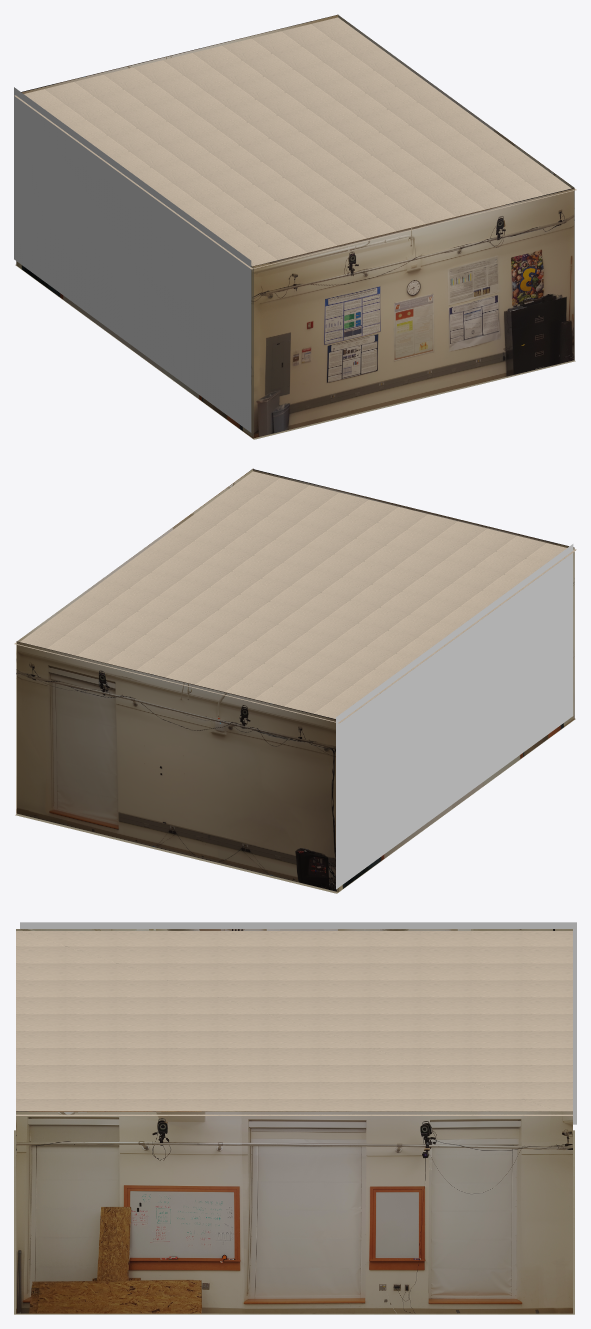
Rendered from lab textured.fbx.
3 views of the same model, one above another, from view 1: azimuth 30°, elevation 25°; view 2: azimuth 150°, elevation 25°; view 3: azimuth 270°, elevation 25° (orthographic). The views are drawn at different scales.
Visible parts, largest first — view 1: Plane_006, Plane_003, Plane, Plane_001, Plane_004, Plane_002, Plane_005; view 2: Plane_006, Plane_004, Plane, Plane_001, Plane_005, Plane_003, Plane_002; view 3: Plane_002, Plane_006, Plane, Plane_005, Plane_001.
Part boxes in pixels (x1=…): Plane_006: x1=14, y1=17, x2=576, y2=269; Plane_003: x1=252, y1=188, x2=574, y2=438; Plane: x1=14, y1=87, x2=251, y2=432; Plane_001: x1=16, y1=261, x2=253, y2=438; Plane_004: x1=16, y1=14, x2=337, y2=264; Plane_002: x1=338, y1=15, x2=574, y2=359; Plane_005: x1=15, y1=264, x2=575, y2=439; Plane_006: x1=14, y1=471, x2=576, y2=723; Plane_004: x1=16, y1=641, x2=338, y2=891; Plane: x1=336, y1=544, x2=573, y2=889; Plane_001: x1=337, y1=548, x2=574, y2=892; Plane_005: x1=15, y1=718, x2=575, y2=893; Plane_003: x1=253, y1=469, x2=574, y2=719; Plane_002: x1=16, y1=468, x2=253, y2=813; Plane_002: x1=16, y1=1111, x2=572, y2=1313; Plane_006: x1=16, y1=931, x2=572, y2=1115; Plane: x1=20, y1=922, x2=576, y2=1124; Plane_005: x1=14, y1=1130, x2=574, y2=1314; Plane_001: x1=16, y1=929, x2=572, y2=930.
Bounding box in the file's own units: 708 × 369 × 903.
